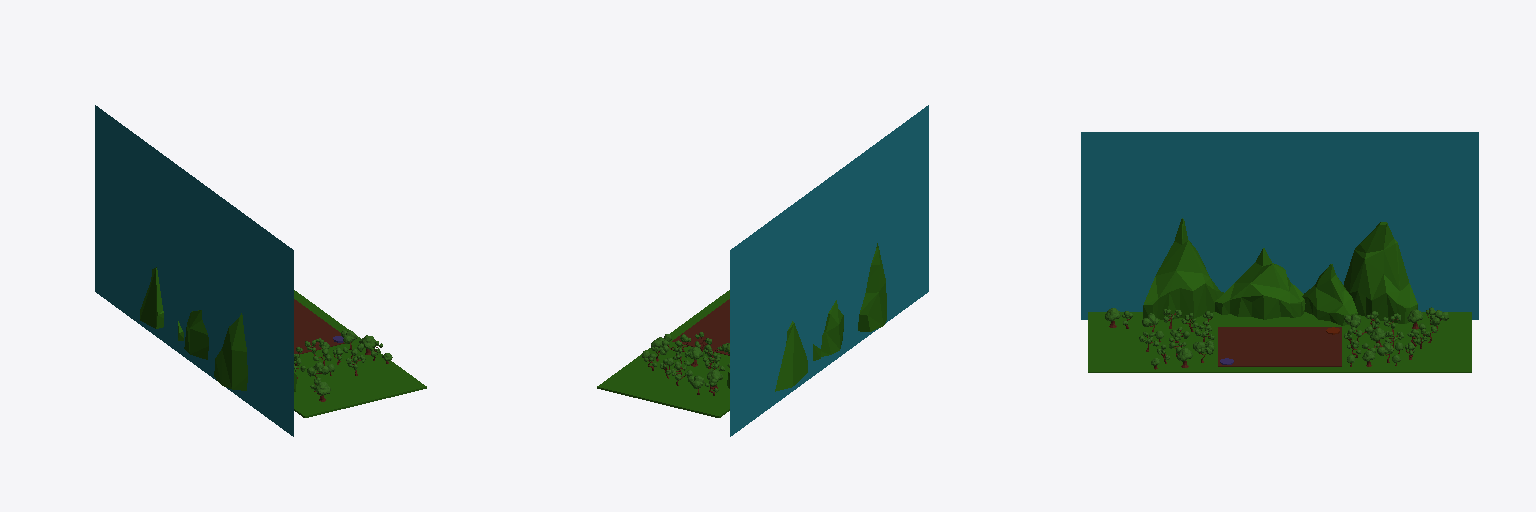
The model's file is Nivel1.obj.
3 renders of one model, left to right at view 1: azimuth 30°, elevation 25°; view 2: azimuth 150°, elevation 25°; view 3: azimuth 270°, elevation 25°, orthographic.
Visible parts, largest first — view 1: pCube9, pCube1, pCube5, pCube8, pCube4, pCube2; view 2: pCube9, pCube1, pCube5, pCube8, pCube4, pCube2; view 3: pCube9, pCube1, pCube8, pCube4, pCube5, pCube2, pCube3.
Part boxes in pixels (bbox=[...]): pCube9: bbox=[95, 105, 293, 436]; pCube1: bbox=[294, 290, 426, 417]; pCube5: bbox=[214, 313, 296, 391]; pCube8: bbox=[294, 299, 344, 354]; pCube4: bbox=[140, 267, 163, 328]; pCube2: bbox=[184, 310, 208, 359]; pCube9: bbox=[730, 105, 928, 436]; pCube1: bbox=[597, 290, 729, 417]; pCube5: bbox=[858, 243, 886, 331]; pCube8: bbox=[672, 299, 729, 355]; pCube4: bbox=[727, 321, 807, 391]; pCube2: bbox=[821, 300, 843, 356]; pCube9: bbox=[1081, 132, 1478, 319]; pCube1: bbox=[1088, 312, 1471, 372]; pCube8: bbox=[1218, 327, 1341, 366]; pCube4: bbox=[1344, 222, 1417, 323]; pCube5: bbox=[1143, 218, 1223, 319]; pCube2: bbox=[1215, 248, 1305, 319]; pCube3: bbox=[1302, 264, 1357, 325].
Size of the model in its own units: 25.71 by 30.64 by 59.16.